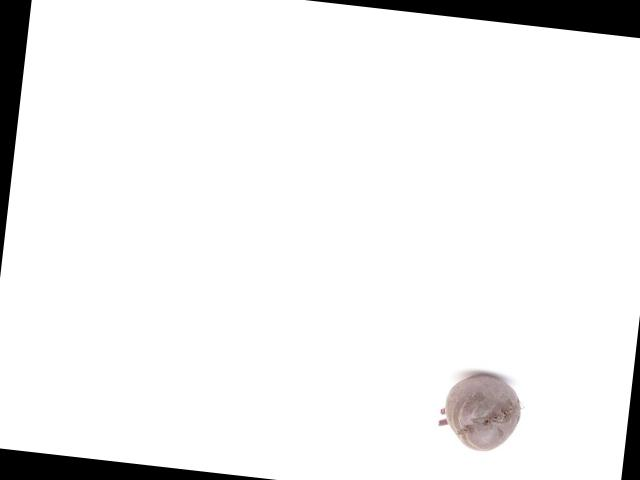beet: (437, 368, 525, 455)
